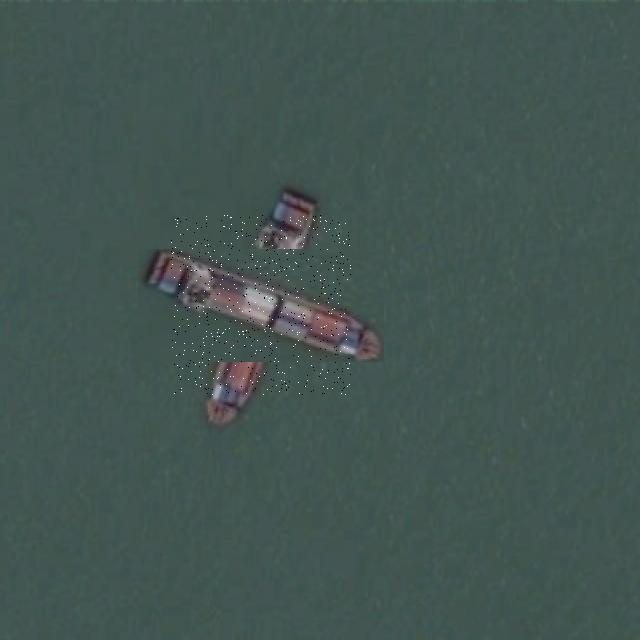boat: (171, 215, 351, 395)
